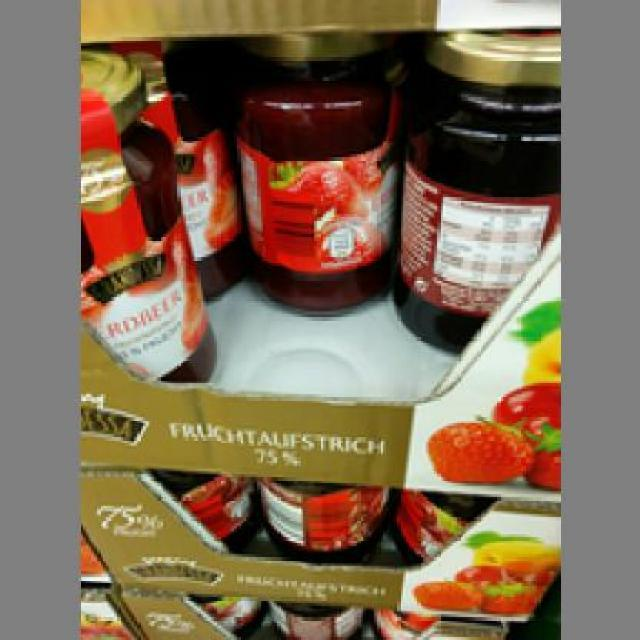Jam: (386, 31, 557, 358), (228, 29, 402, 318), (76, 43, 212, 380)
